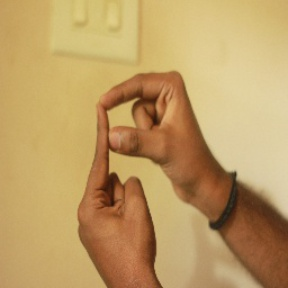P: (68, 66, 196, 229)
